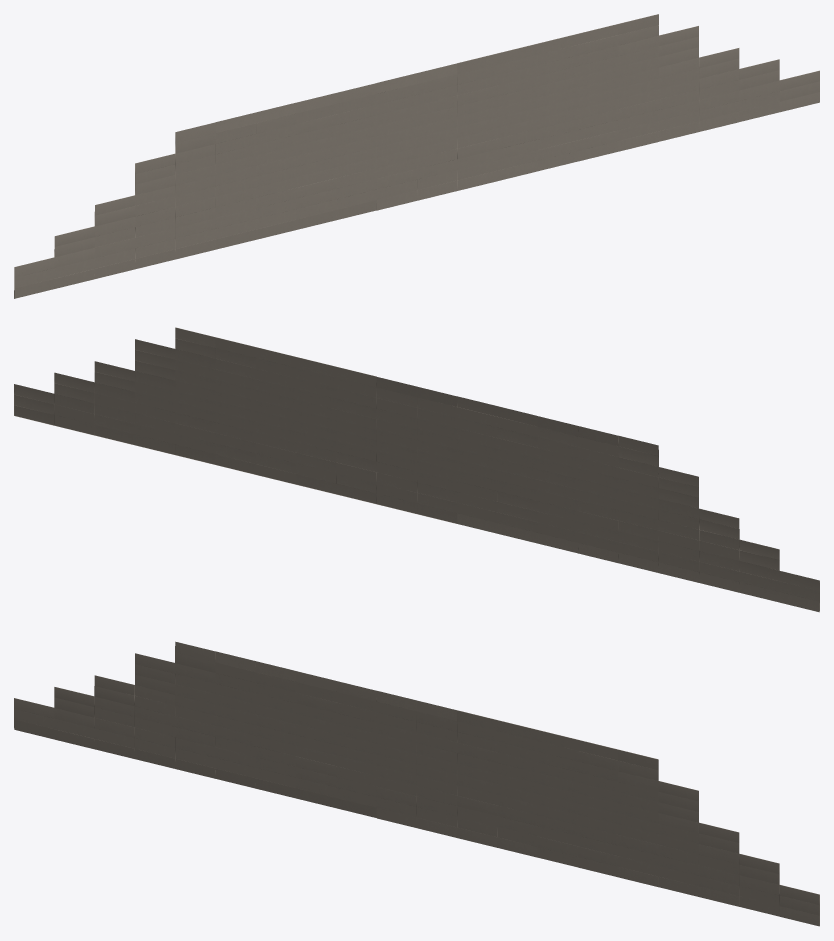
File: wall.glb
The picture shows the model from 3 angles, top to bottom: view 1: azimuth 30°, elevation 25°; view 2: azimuth 150°, elevation 25°; view 3: azimuth 330°, elevation 25°; orthographic projection.
Parts seen in each view (by area): view 1: SM_0_Retaining_wall_Block_LP_L; view 2: SM_0_Retaining_wall_Block_LP_L; view 3: SM_0_Retaining_wall_Block_LP_L.
Part boxes in pixels (bbox=[...]): SM_0_Retaining_wall_Block_LP_L: bbox=[14, 14, 819, 298]; SM_0_Retaining_wall_Block_LP_L: bbox=[14, 327, 819, 612]; SM_0_Retaining_wall_Block_LP_L: bbox=[14, 641, 819, 926].
Size of the model in its own units: 47.7 by 7.22 by 0.0532.
1 material, 1 textured.
